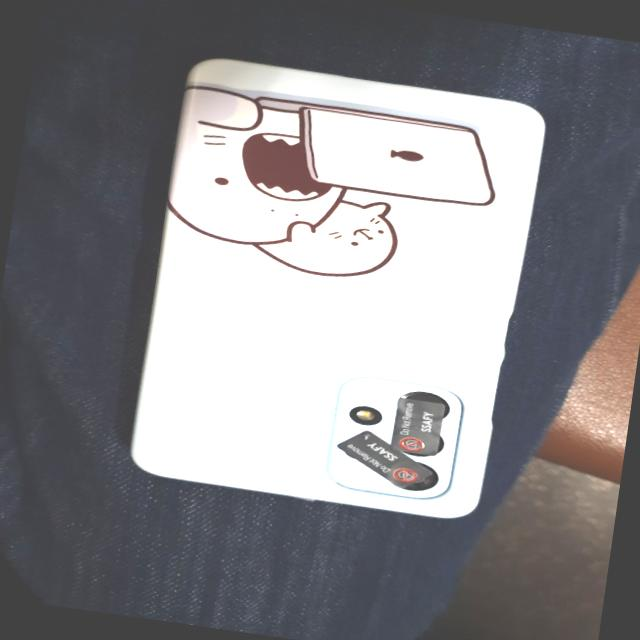phone: (121, 44, 552, 526)
sticker: (330, 427, 440, 492), (388, 394, 449, 458)
